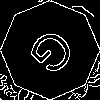G: (25, 25, 85, 85)
